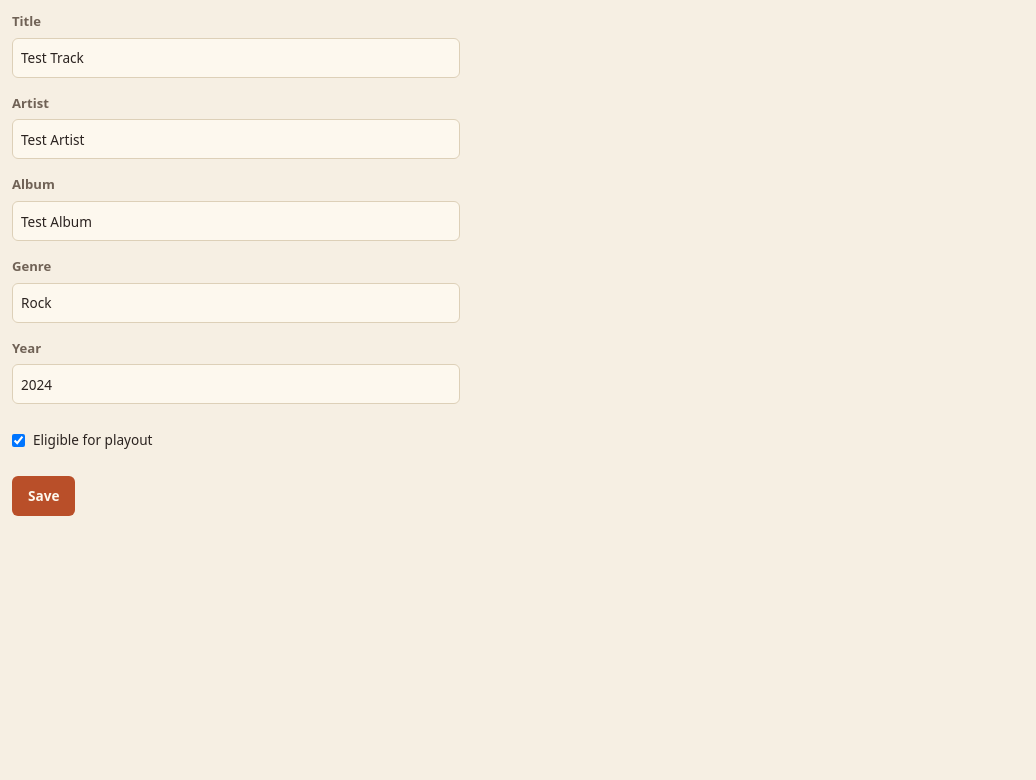
Test: Feature: Edit a track from its detail page › Scenario: a concurrent change is surfaced › a 409 from PATCH toasts an explanation and offers an adjacent reload, not a silent loss
What coordinates should you click on to do the following:
click the button "Save"
I would click on:
 (44, 496)
Its box is [12,476,76,516].
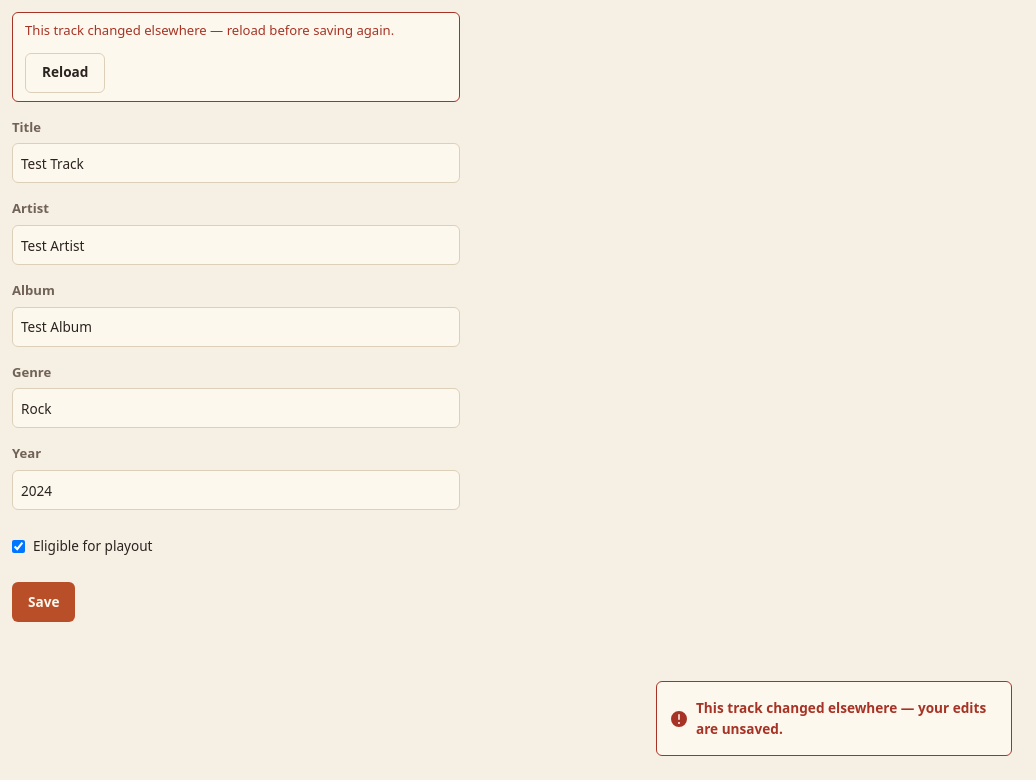
Expected: the text "This track changed elsewhere — your edits are unsaved." is shown, [696,698,995,739]
Expected: the button "Reload" is shown, [25,53,105,93]
